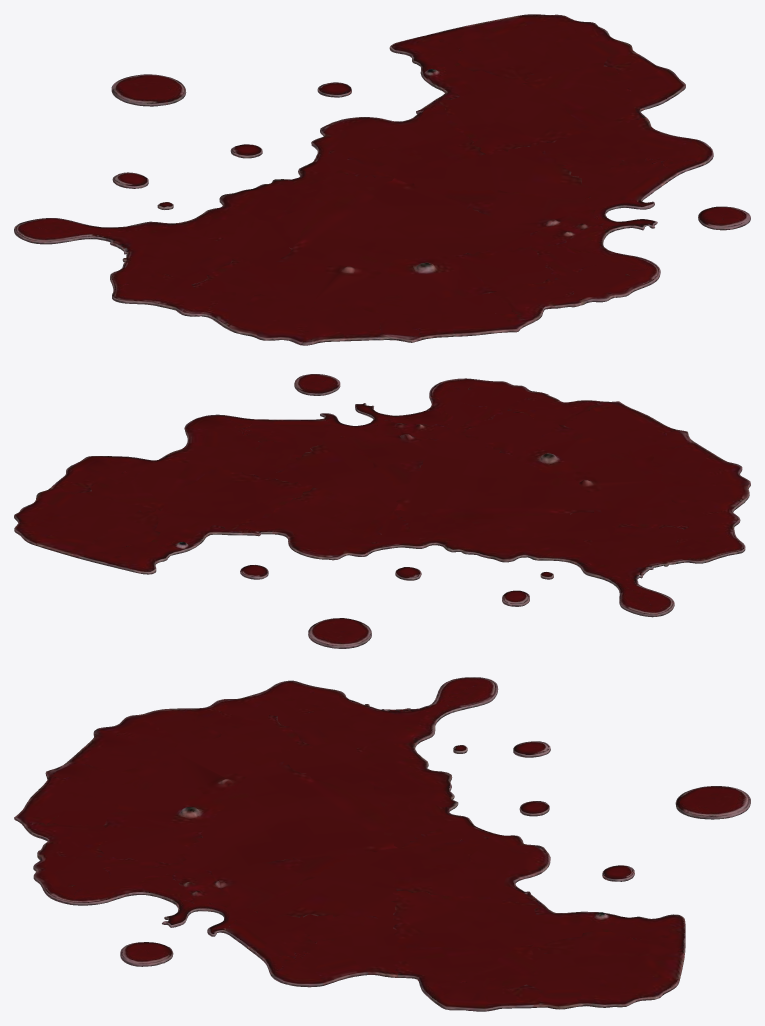
Rendered from blood_pool.glb.
3 renders of one model, top to bottom at view 1: azimuth 30°, elevation 25°; view 2: azimuth 150°, elevation 25°; view 3: azimuth 270°, elevation 25°, orthographic. The views are drawn at different scales.
Parts seen in each view (by area): view 1: mesh_node; view 2: mesh_node; view 3: mesh_node.
Part boxes in pixels (x1,y1,x2,y2): mesh_node: (14, 14, 750, 345); mesh_node: (14, 374, 750, 648); mesh_node: (14, 677, 750, 1011).
Bounding box in the file's own units: 1.9 × 0.0226 × 1.78.
1 material, 1 textured.
